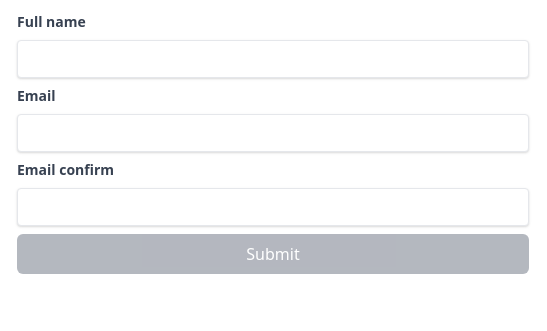
test modal input vaidation
Step 1. Type "ab" into the field labelled "Full name" → (273, 59), box [17,40,529,78]
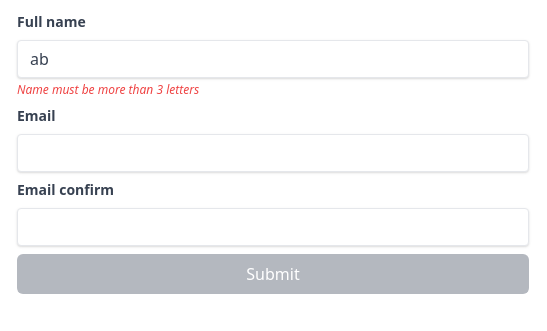
Result: the text "Name must be more than 3 letters" is shown at [17,81,199,98]
Step 2. Type "invalid email" into the field labelled "Email" → (273, 153), box [17,134,529,172]
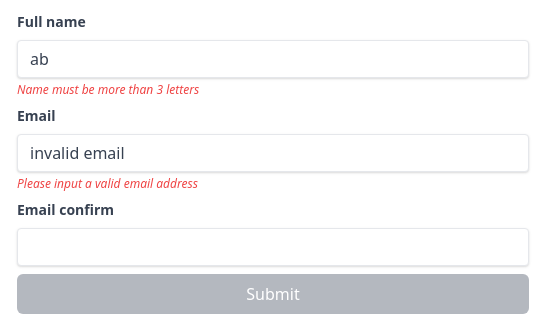
Expected: the button "Submit" is disabled, [17,274,529,314]
Result: the text "Please input a valid email address" is shown at [17,175,198,192]
